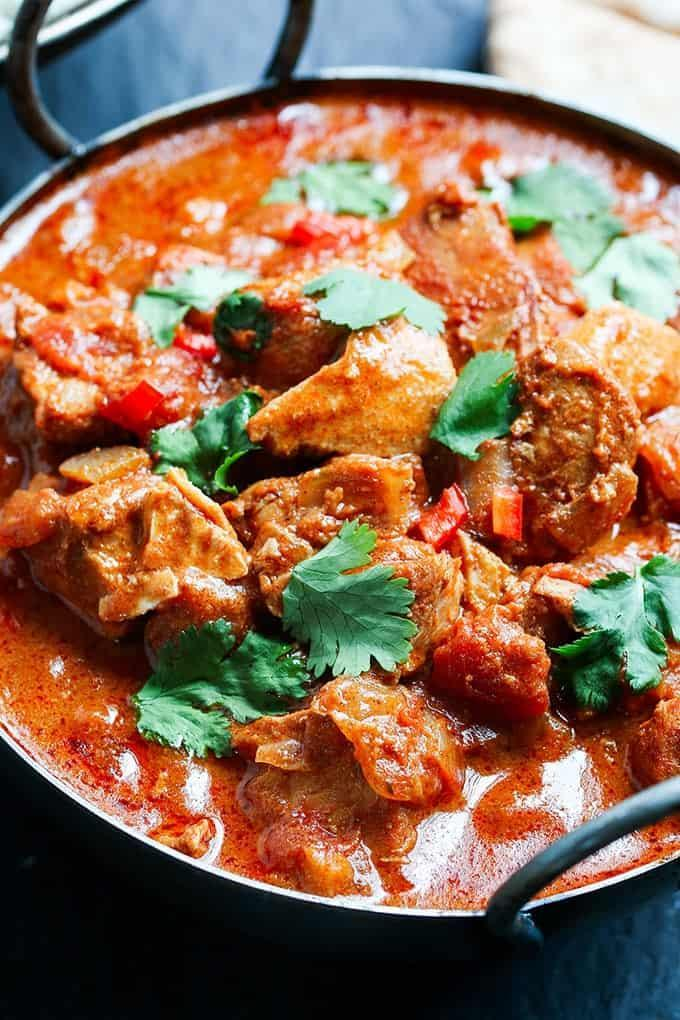chicken: (2, 121, 680, 857)
